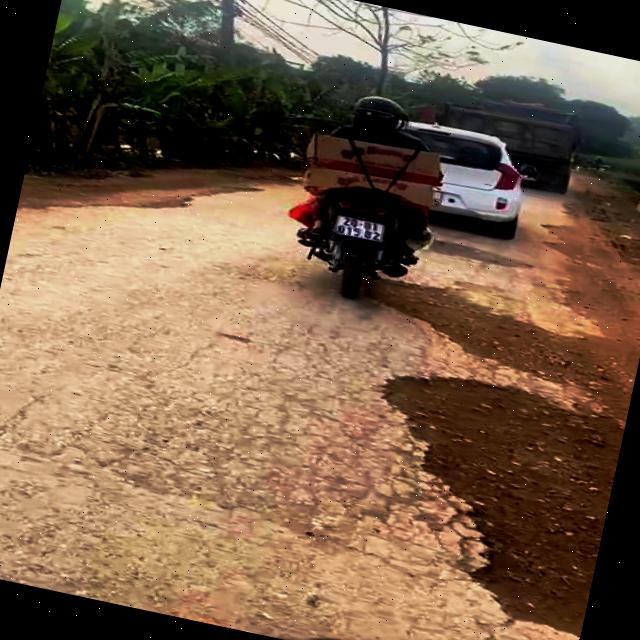pothole: (338, 354, 629, 640), (348, 267, 618, 398), (422, 235, 537, 274), (118, 182, 196, 222)
